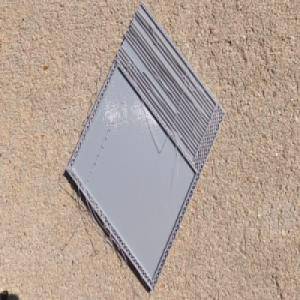PlasticPart: (65, 1, 226, 292)
